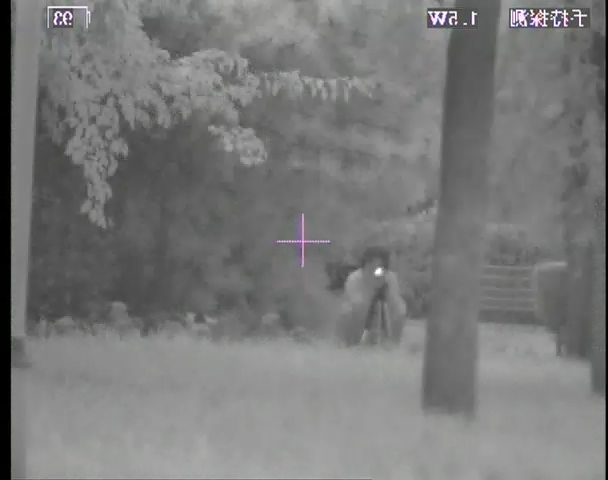my: (373, 266, 386, 279)
